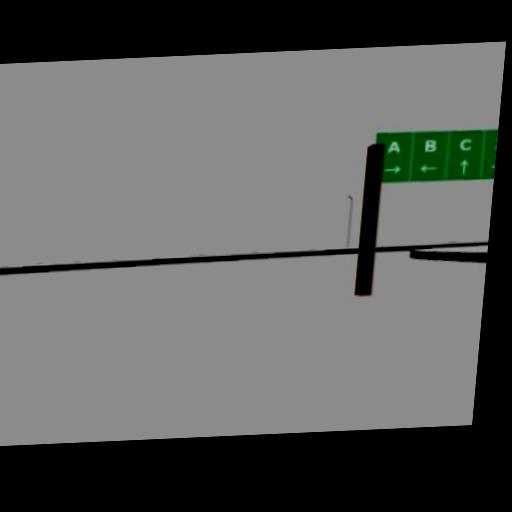A: (387, 140, 402, 154)
B: (423, 138, 437, 152)
C: (458, 137, 472, 152)
Left: (418, 164, 438, 173)
Right: (383, 163, 402, 174)
Straight: (458, 157, 469, 174)
